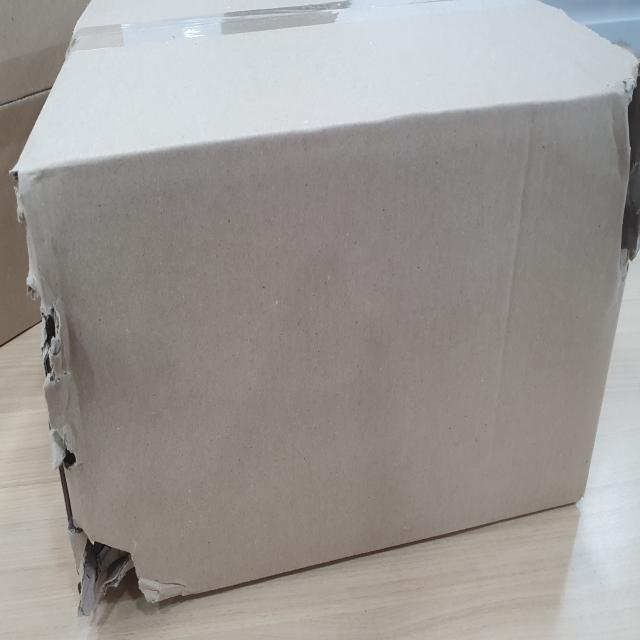hole: (37, 299, 153, 615), (609, 54, 640, 262)
